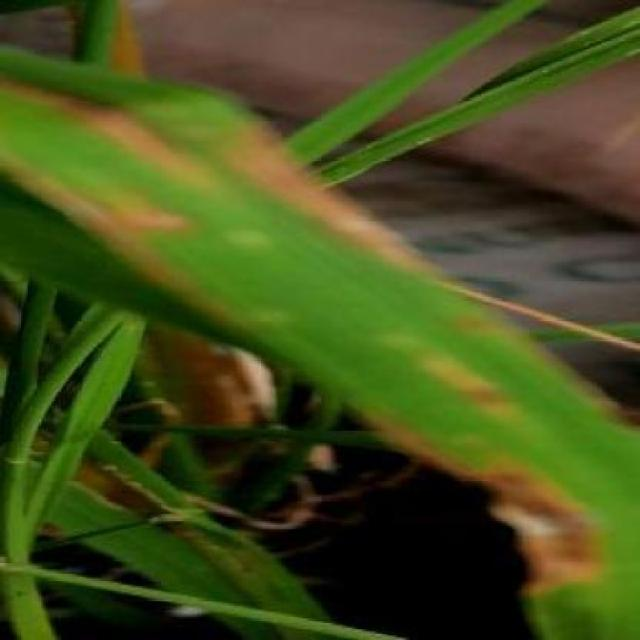Bacterial_Leaf_Blight: (217, 102, 429, 273), (460, 445, 595, 593), (98, 188, 196, 242)
